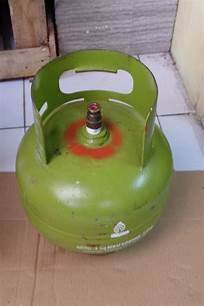gas_ijo: (16, 50, 173, 255)
